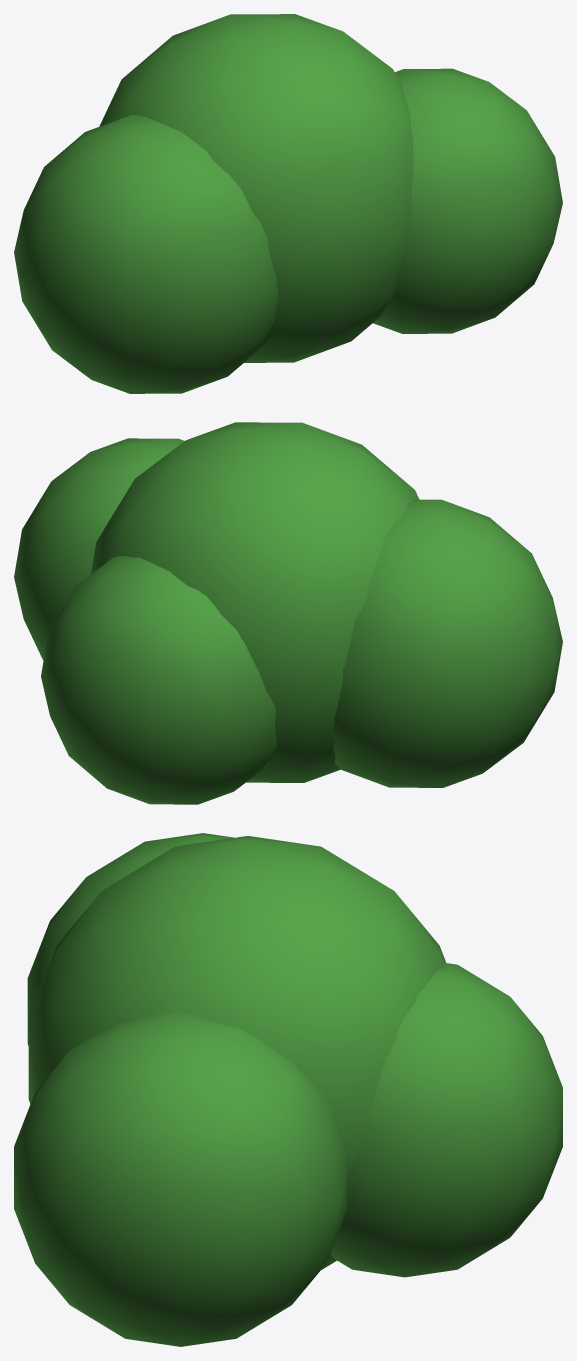
File: bush.glb
The picture shows the model from 3 angles, top to bottom: view 1: azimuth 30°, elevation 25°; view 2: azimuth 150°, elevation 25°; view 3: azimuth 270°, elevation 25°; orthographic projection. The views are drawn at different scales.
Parts seen in each view (by area): view 1: bush; view 2: bush; view 3: bush.
Part boxes in pixels (x1,y1,x2,y2): bush: (14,14,562,393); bush: (14,422,562,804); bush: (14,833,562,1346).
Size of the model in its own units: 1.61 by 0.9794 by 1.22.
